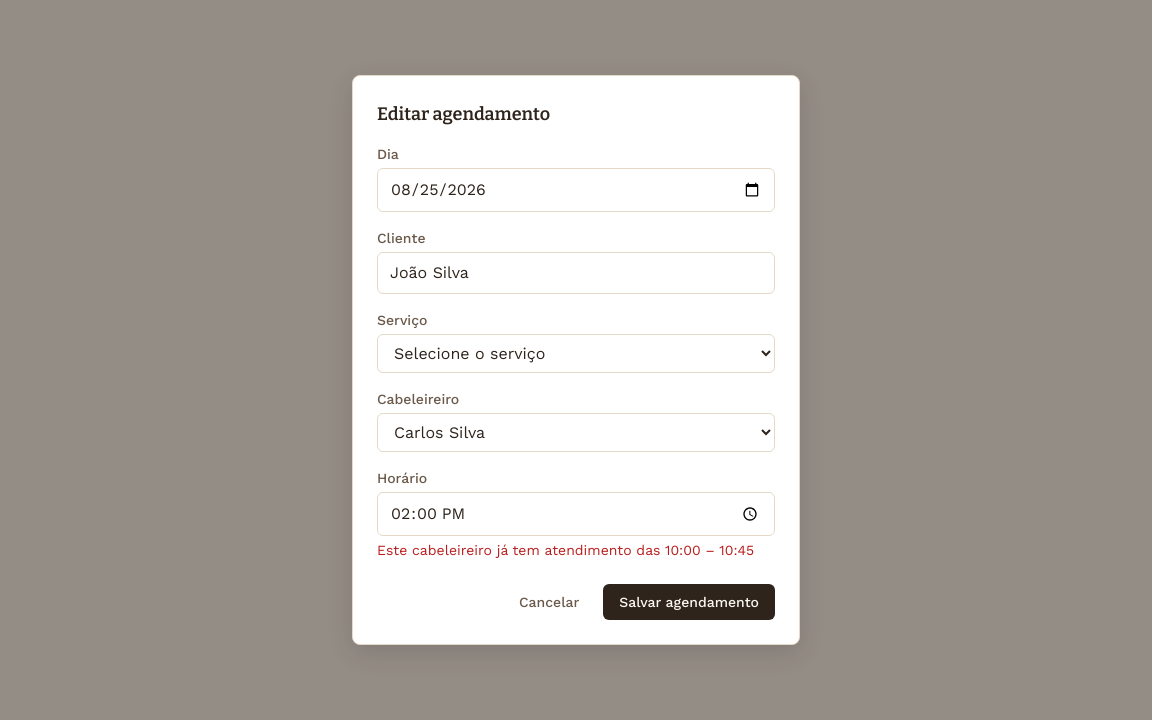
Test: AppointmentFormModal › clears the selected client if the client field is edited after a selection
Type "x" into the field labelled "Cliente" at (576, 273), box x1=377 y1=252 x2=775 y2=294
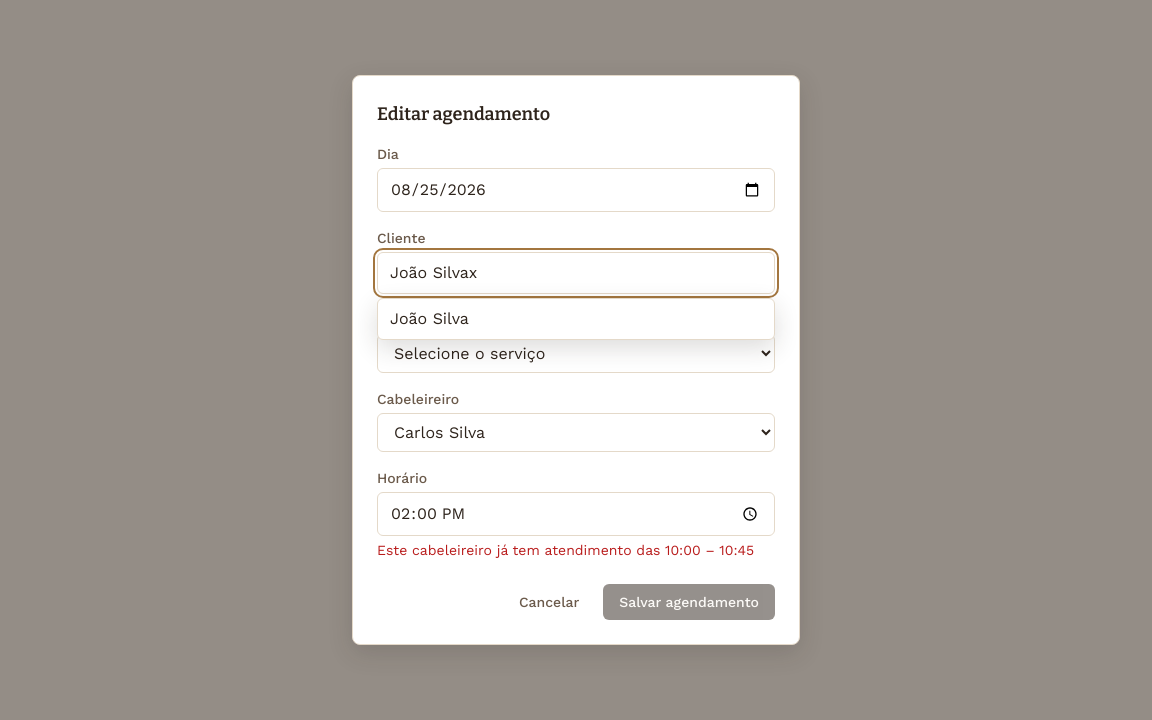
expect the button "Salvar agendamento" is disabled: met, box x1=603 y1=584 x2=775 y2=620
